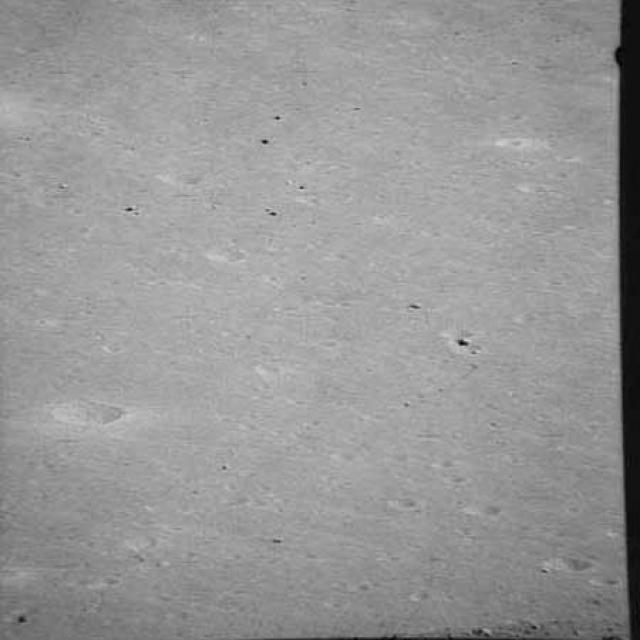crater: (44, 391, 127, 437), (538, 542, 598, 582), (156, 165, 210, 192)
